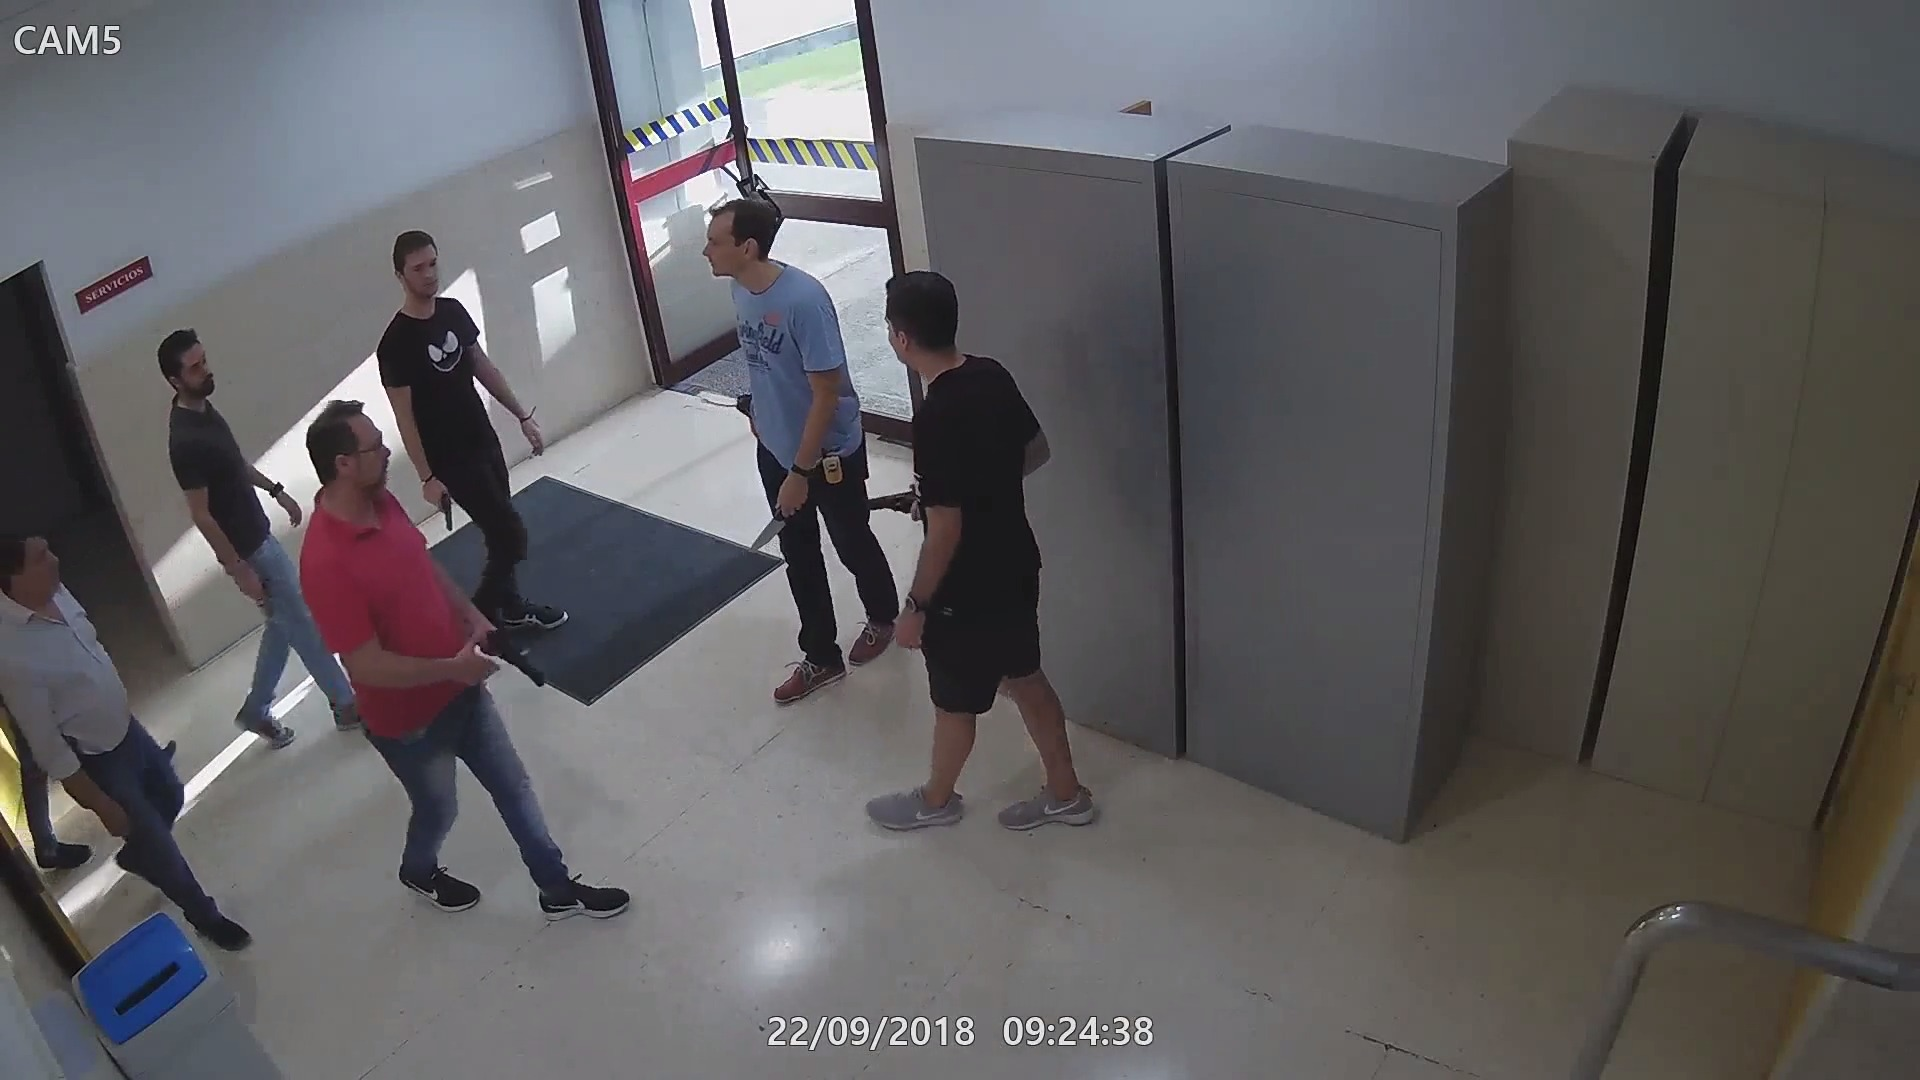Handgun: (473, 625, 549, 688), (847, 487, 926, 545), (227, 551, 282, 622), (419, 469, 458, 534), (731, 386, 760, 429)
Knife: (744, 481, 814, 556)
